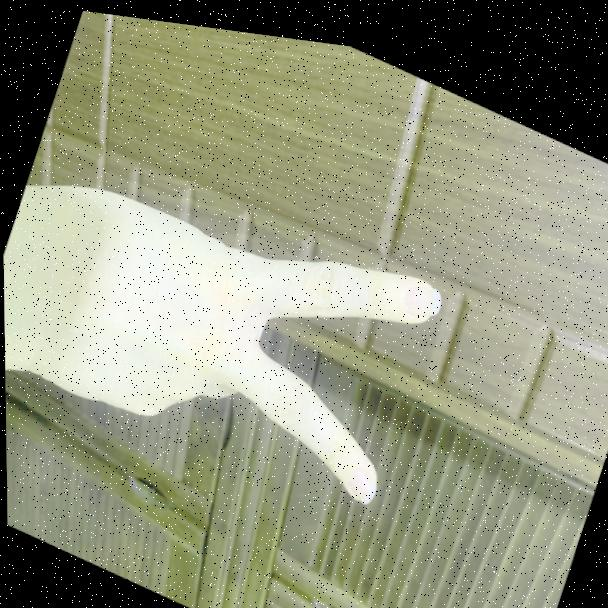two: (1, 97, 461, 543)
